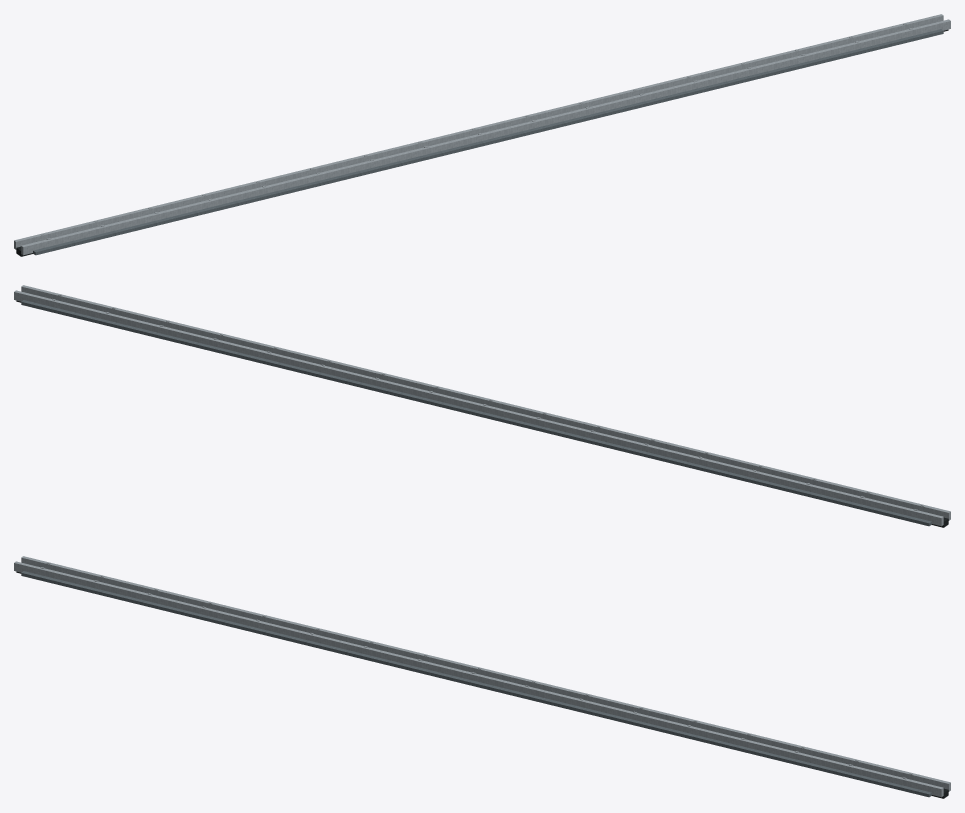
Rendered from PZ_Expansion_Joint_11p4m.glb.
3 renders of one model, top to bottom at view 1: azimuth 30°, elevation 25°; view 2: azimuth 150°, elevation 25°; view 3: azimuth 330°, elevation 25°, orthographic.
Parts seen in each view (by area): view 1: PZ_Expansion_Joint_11p4m_NEAR_STEEL_NOSING, PZ_Expansion_Joint_11p4m_FAR_STEEL_NOSING, PZ_Expansion_Joint_11p4m_NEAR_ANCHOR_BAND; view 2: PZ_Expansion_Joint_11p4m_FAR_STEEL_NOSING, PZ_Expansion_Joint_11p4m_NEAR_STEEL_NOSING, PZ_Expansion_Joint_11p4m_FAR_ANCHOR_BAND; view 3: PZ_Expansion_Joint_11p4m_NEAR_STEEL_NOSING, PZ_Expansion_Joint_11p4m_FAR_STEEL_NOSING, PZ_Expansion_Joint_11p4m_NEAR_ANCHOR_BAND.
Boxes of the visible parts, x1,y1,x2,y2 form: PZ_Expansion_Joint_11p4m_NEAR_STEEL_NOSING: (21,19,950,255); PZ_Expansion_Joint_11p4m_FAR_STEEL_NOSING: (14,14,943,249); PZ_Expansion_Joint_11p4m_NEAR_ANCHOR_BAND: (33,29,943,255); PZ_Expansion_Joint_11p4m_FAR_STEEL_NOSING: (14,290,943,526); PZ_Expansion_Joint_11p4m_NEAR_STEEL_NOSING: (21,285,950,520); PZ_Expansion_Joint_11p4m_FAR_ANCHOR_BAND: (21,300,931,526); PZ_Expansion_Joint_11p4m_NEAR_STEEL_NOSING: (14,561,943,797); PZ_Expansion_Joint_11p4m_FAR_STEEL_NOSING: (21,556,950,791); PZ_Expansion_Joint_11p4m_NEAR_ANCHOR_BAND: (21,571,931,797).
Size of the model in its own units: 11.36 by 0.14 by 0.302.
3 materials, 3 textured.
